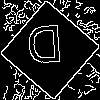D: (25, 25, 65, 73)
